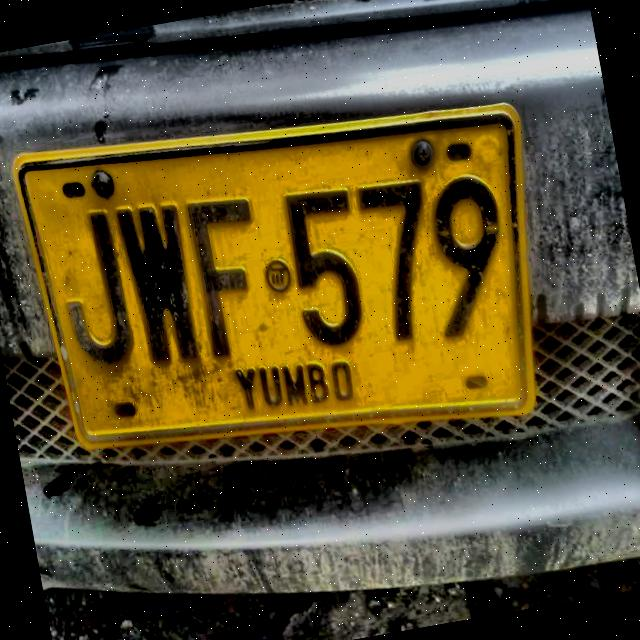5: (277, 184, 374, 356)
7: (355, 174, 429, 349)
9: (434, 171, 501, 351)
F: (184, 194, 256, 361)
J: (41, 207, 143, 372)
W: (113, 200, 208, 365)
